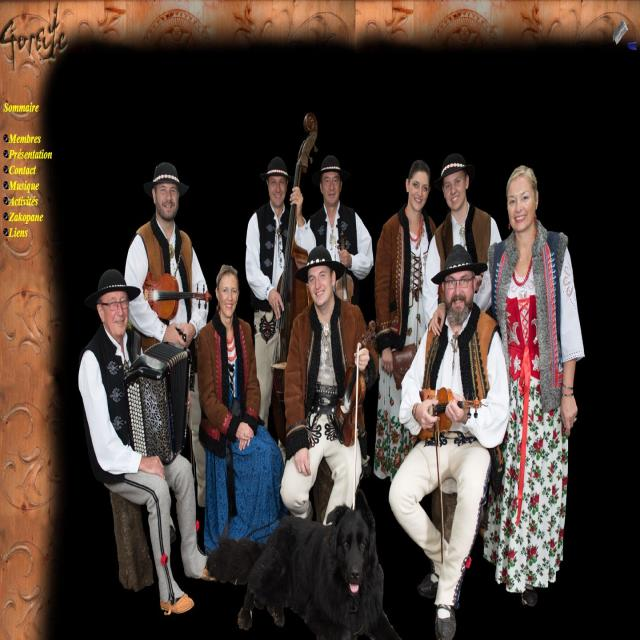heading: (0, 1, 78, 75)
image: (0, 0, 640, 640)
text: (0, 129, 66, 257), (2, 98, 40, 116)
